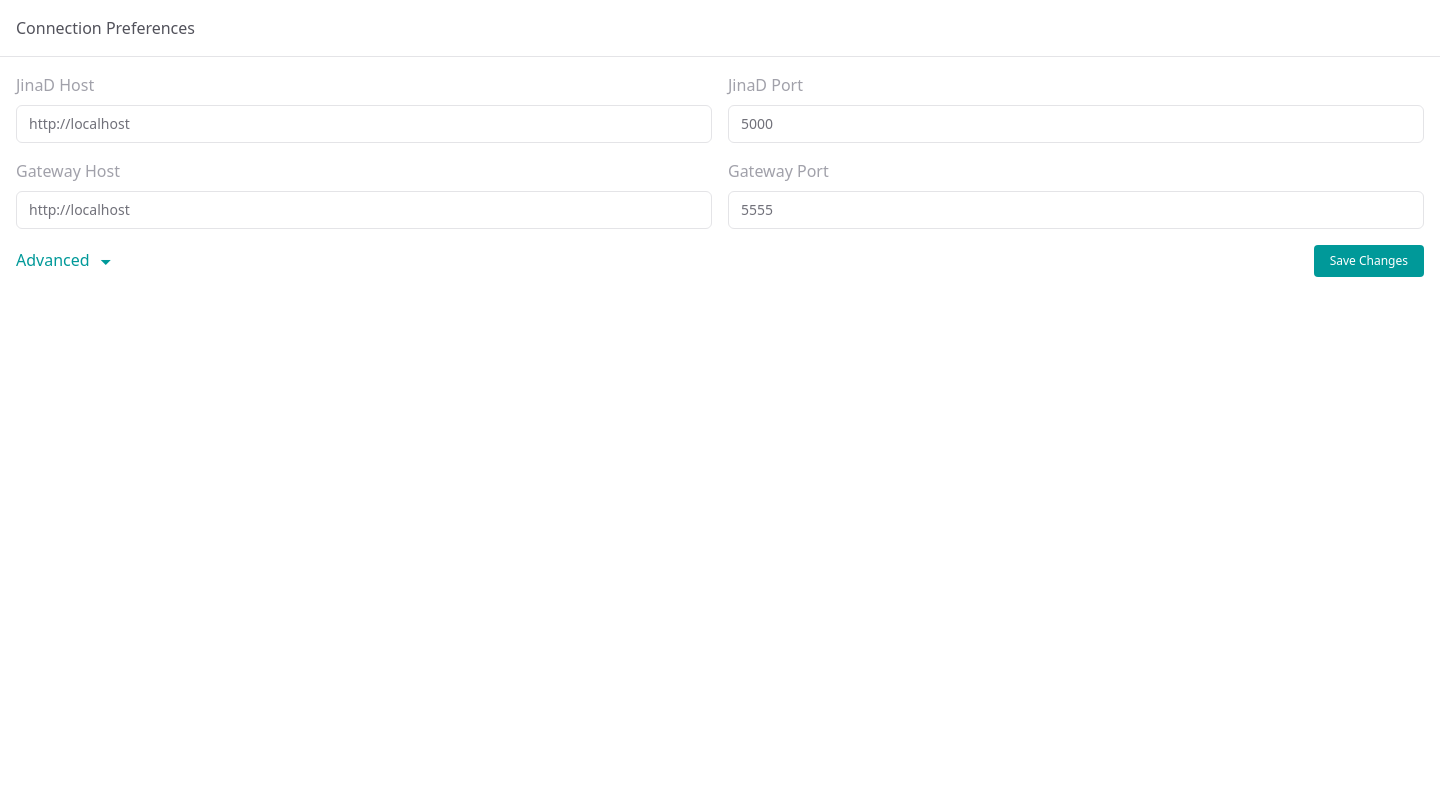
it: SettingsCard unit test cases › should render all advanced options on clicking Adavenced button
This screenshot has width=1440, height=810.
Click the button "Advanced" at point(67, 261), box [16, 248, 118, 274]
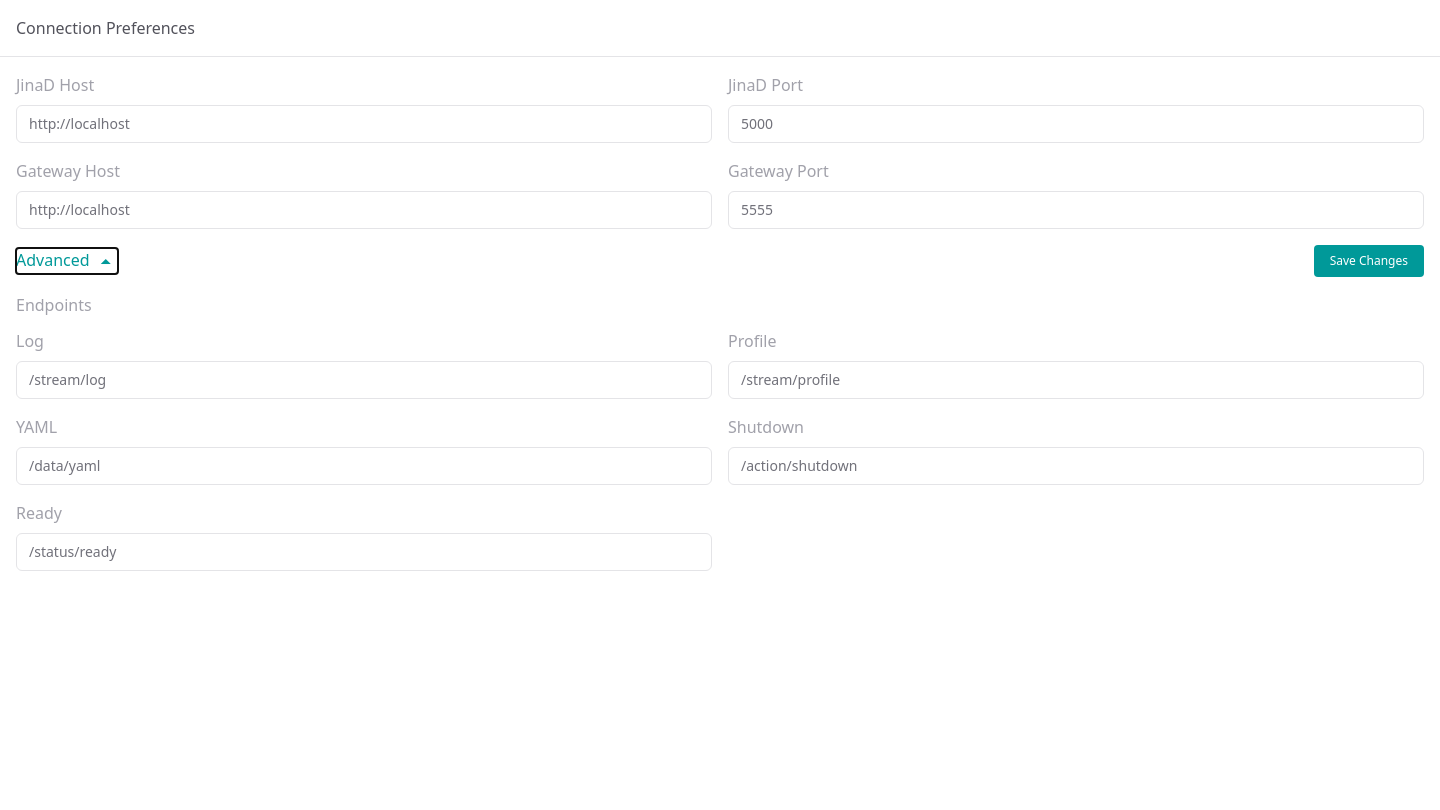
Expected: the field labelled "Log" is shown, [16, 361, 712, 399]
Expected: the field labelled "Profile" is shown, [728, 361, 1424, 399]
Expected: the field labelled "YAML" is shown, [16, 447, 712, 485]
